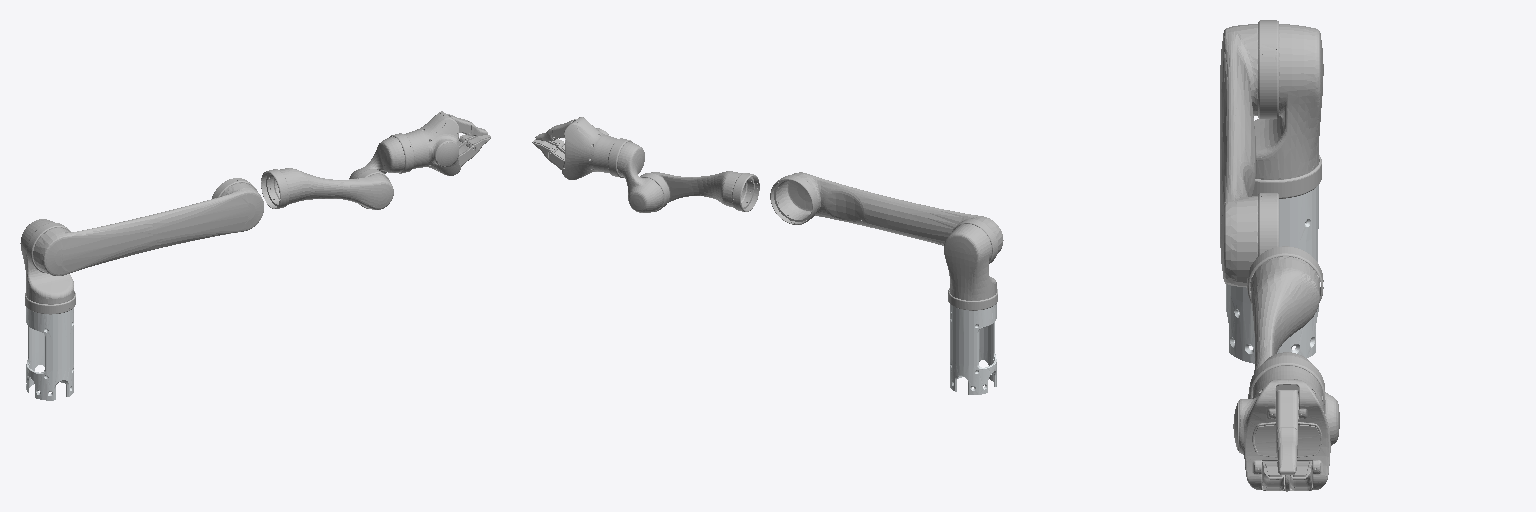
The robot description file, URDF, robot "aria_v1_arm":
<?xml version="1.0" encoding="utf-8"?>
<!-- This URDF was automatically created by SolidWorks to URDF Exporter! Originally created by [author] ([email redacted]) 
     Commit Version: 1.5.1-0-g916b5db  Build Version: 1.5.7152.31018
     For more information, please see http://wiki.ros.org/sw_urdf_exporter -->
<robot
  name="aria_v1_arm">
  <link
    name="base_link">
    <inertial>
      <origin
        xyz="0.006867 -2.3306E-07 0.1029"
        rpy="0 0 0" />
      <mass
        value="0.47699" />
      <inertia
        ixx="0.0020506"
        ixy="-5.4171E-09"
        ixz="4.8967E-05"
        iyy="0.0019633"
        iyz="-3.9639E-09"
        izz="0.00092302" />
    </inertial>
    <visual>
      <origin
        xyz="0 0 0"
        rpy="0 0 0" />
      <geometry>
        <mesh
          filename="package://aria_description/meshes/aria_v1/base_link.STL" />
      </geometry>
      <material
        name="">
        <color
          rgba="0.89804 0.91765 0.92941 1" />
      </material>
    </visual>
    <collision>
      <origin
        xyz="0 0 0"
        rpy="0 0 0" />
      <geometry>
        <mesh
          filename="package://aria_description/meshes/aria_v1/base_link.STL" />
      </geometry>
    </collision>
  </link>
  <link
    name="C2">
    <inertial>
      <origin
        xyz="2.2289E-05 0.0028789 0.062568"
        rpy="0 0 0" />
      <mass
        value="1.0147" />
      <inertia
        ixx="0.00073312"
        ixy="4.4325E-06"
        ixz="9.5766E-08"
        iyy="0.00097269"
        iyz="-5.7984E-05"
        izz="0.0008251" />
    </inertial>
    <visual>
      <origin
        xyz="0 0 0"
        rpy="0 0 0" />
      <geometry>
        <mesh
          filename="package://aria_description/meshes/aria_v1/C2.STL" />
      </geometry>
      <material
        name="">
        <color
          rgba="0.75294 0.75294 0.75294 1" />
      </material>
    </visual>
    <collision>
      <origin
        xyz="0 0 0"
        rpy="0 0 0" />
      <geometry>
        <mesh
          filename="package://aria_description/meshes/aria_v1/C2.STL" />
      </geometry>
    </collision>
  </link>
  <joint
    name="Joint1"
    type="continuous">
    <origin
      xyz="0 0 0.19525"
      rpy="0 0 0" />
    <parent
      link="base_link" />
    <child
      link="C2" />
    <axis
      xyz="0 0 1" />
    <limit
      lower="0"
      upper="0"
      effort="0"
      velocity="0.65" />
  </joint>
  <link
    name="C3">
    <inertial>
      <origin
        xyz="0.18466 -0.010126 -5.2395E-05"
        rpy="0 0 0" />
      <mass
        value="1.5407" />
      <inertia
        ixx="0.00083279"
        ixy="5.108E-06"
        ixz="-7.3577E-06"
        iyy="0.006788"
        iyz="2.1922E-07"
        izz="0.0060612" />
    </inertial>
    <visual>
      <origin
        xyz="0 0 0"
        rpy="0 0 0" />
      <geometry>
        <mesh
          filename="package://aria_description/meshes/aria_v1/C3.STL" />
      </geometry>
      <material
        name="">
        <color
          rgba="0.75294 0.75294 0.75294 1" />
      </material>
    </visual>
    <collision>
      <origin
        xyz="0 0 0"
        rpy="0 0 0" />
      <geometry>
        <mesh
          filename="package://aria_description/meshes/aria_v1/C3.STL" />
      </geometry>
    </collision>
  </link>
  <joint
    name="Joint2"
    type="revolute">
    <origin
      xyz="0 -0.00388 0.11075"
      rpy="0 0 0" />
    <parent
      link="C2" />
    <child
      link="C3" />
    <axis
      xyz="0 -1 0" />
    <limit
      lower="-0.835"
      upper="3.95"
      effort="0"
      velocity="0.9" />
  </joint>
  <link
    name="C4">
    <inertial>
      <origin
        xyz="0.034236 0.012228 7.5617E-05"
        rpy="0 0 0" />
      <mass
        value="0.75713" />
      <inertia
        ixx="0.00044157"
        ixy="2.5585E-05"
        ixz="1.9108E-07"
        iyy="0.00069308"
        iyz="-5.9144E-08"
        izz="0.00046476" />
    </inertial>
    <visual>
      <origin
        xyz="0 0 0"
        rpy="0 0 0" />
      <geometry>
        <mesh
          filename="package://aria_description/meshes/aria_v1/C4.STL" />
      </geometry>
      <material
        name="">
        <color
          rgba="0.75294 0.75294 0.75294 1" />
      </material>
    </visual>
    <collision>
      <origin
        xyz="0 0 0"
        rpy="0 0 0" />
      <geometry>
        <mesh
          filename="package://aria_description/meshes/aria_v1/C4.STL" />
      </geometry>
    </collision>
  </link>
  <joint
    name="Joint3"
    type="revolute">
    <origin
      xyz="0.41 0 0"
      rpy="0 0 0" />
    <parent
      link="C3" />
    <child
      link="C4" />
    <axis
      xyz="0 -1 0" />
    <limit
      lower="-3.2"
      upper="3.05"
      effort="0"
      velocity="0.65" />
  </joint>
  <link
    name="C5">
    <inertial>
      <origin
        xyz="0.10106 -0.005985 -0.020987"
        rpy="0 0 0" />
      <mass
        value="0.7629" />
      <inertia
        ixx="0.00041645"
        ixy="0.00013109"
        ixz="0.00025831"
        iyy="0.0013087"
        iyz="-3.328E-05"
        izz="0.0011753" />
    </inertial>
    <visual>
      <origin
        xyz="0 0 0"
        rpy="0 0 0" />
      <geometry>
        <mesh
          filename="package://aria_description/meshes/aria_v1/C5.STL" />
      </geometry>
      <material
        name="">
        <color
          rgba="0.75294 0.75294 0.75294 1" />
      </material>
    </visual>
    <collision>
      <origin
        xyz="0 0 0"
        rpy="0 0 0" />
      <geometry>
        <mesh
          filename="package://aria_description/meshes/aria_v1/C5.STL" />
      </geometry>
    </collision>
  </link>
  <joint
    name="Joint4"
    type="continuous">
    <origin
      xyz="0.10025 0.01688 0"
      rpy="0 0 0" />
    <parent
      link="C4" />
    <child
      link="C5" />
    <axis
      xyz="1 0 0" />
    <limit
      lower="0"
      upper="0"
      effort="0"
      velocity="1.1" />
  </joint>
  <link
    name="C6">
    <inertial>
      <origin
        xyz="0.026025 0.0061549 0.027469"
        rpy="0 0 0" />
      <mass
        value="0.65716" />
      <inertia
        ixx="0.00035354"
        ixy="2.0268E-05"
        ixz="-3.9013E-05"
        iyy="0.00037446"
        iyz="3.5456E-05"
        izz="0.00024204" />
    </inertial>
    <visual>
      <origin
        xyz="0 0 0"
        rpy="0 0 0" />
      <geometry>
        <mesh
          filename="package://aria_description/meshes/aria_v1/C6.STL" />
      </geometry>
      <material
        name="">
        <color
          rgba="0.75294 0.75294 0.75294 1" />
      </material>
    </visual>
    <collision>
      <origin
        xyz="0 0 0"
        rpy="0 0 0" />
      <geometry>
        <mesh
          filename="package://aria_description/meshes/aria_v1/C6.STL" />
      </geometry>
    </collision>
  </link>
  <joint
    name="Joint5"
    type="revolute">
    <origin
      xyz="0.21628 0.00071 -0.05025"
      rpy="0 0 0" />
    <parent
      link="C5" />
    <child
      link="C6" />
    <axis
      xyz="0 -1 0" />
    <limit
      lower="-3.3"
      upper="1.35"
      effort="0"
      velocity="1.1" />
  </joint>
  <link
    name="Gripper">
    <inertial>
      <origin
        xyz="0.044477 -0.0019357 -0.00061691"
        rpy="0 0 0" />
      <mass
        value="0.79039" />
      <inertia
        ixx="0.00043881"
        ixy="-2.067E-06"
        ixz="-1.4097E-06"
        iyy="0.00029456"
        iyz="3.0944E-07"
        izz="0.00027978" />
    </inertial>
    <visual>
      <origin
        xyz="0 0 0"
        rpy="0 0 0" />
      <geometry>
        <mesh
          filename="package://aria_description/meshes/aria_v1/Gripper.STL" />
      </geometry>
      <material
        name="">
        <color
          rgba="0.75294 0.75294 0.75294 1" />
      </material>
    </visual>
    <collision>
      <origin
        xyz="0 0 0"
        rpy="0 0 0" />
      <geometry>
        <mesh
          filename="package://aria_description/meshes/aria_v1/Gripper.STL" />
      </geometry>
    </collision>
  </link>
  <joint
    name="Joint6"
    type="continuous">
    <origin
      xyz="0.065533 0.0012125 0.0603"
      rpy="0 0 0" />
    <parent
      link="C6" />
    <child
      link="Gripper" />
    <axis
      xyz="1 0 0" />
    <limit
      lower="0"
      upper="0"
      effort="0"
      velocity="1.1" />
  </joint>
  <link
    name="Finger1+2">
    <inertial>
      <origin
        xyz="0.039295 -0.013949 0.010239"
        rpy="0 0 0" />
      <mass
        value="0.055822" />
      <inertia
        ixx="5.8667E-06"
        ixy="2.5984E-11"
        ixz="-2.6997E-06"
        iyy="1.1887E-05"
        iyz="4.1196E-11"
        izz="1.1059E-05" />
    </inertial>
    <visual>
      <origin
        xyz="0 0 0"
        rpy="0 0 0" />
      <geometry>
        <mesh
          filename="package://aria_description/meshes/aria_v1/Finger1+2.STL" />
      </geometry>
      <material
        name="">
        <color
          rgba="0.75294 0.75294 0.75294 1" />
      </material>
    </visual>
    <collision>
      <origin
        xyz="0 0 0"
        rpy="0 0 0" />
      <geometry>
        <mesh
          filename="package://aria_description/meshes/aria_v1/Finger1+2.STL" />
      </geometry>
    </collision>
  </link>
  <joint
    name="FJoint1"
    type="revolute">
    <origin
      xyz="0.10705 0.0139 -0.031"
      rpy="0 0 0" />
    <parent
      link="Gripper" />
    <child
      link="Finger1+2" />
    <axis
      xyz="0 1 0" />
    <limit
      lower="0"
      upper="1.05"
      effort="0"
      velocity="1" />
  </joint>
  <link
    name="Finger3">
    <inertial>
      <origin
        xyz="0.039161 -5.0112E-09 -0.010511"
        rpy="0 0 0" />
      <mass
        value="0.027789" />
      <inertia
        ixx="2.9896E-06"
        ixy="-1.0187E-12"
        ixz="1.4306E-06"
        iyy="5.9874E-06"
        iyz="5.456E-12"
        izz="5.4662E-06" />
    </inertial>
    <visual>
      <origin
        xyz="0 0 0"
        rpy="0 0 0" />
      <geometry>
        <mesh
          filename="package://aria_description/meshes/aria_v1/Finger3.STL" />
      </geometry>
      <material
        name="">
        <color
          rgba="0.75294 0.75294 0.75294 1" />
      </material>
    </visual>
    <collision>
      <origin
        xyz="0 0 0"
        rpy="0 0 0" />
      <geometry>
        <mesh
          filename="package://aria_description/meshes/aria_v1/Finger3.STL" />
      </geometry>
    </collision>
  </link>
  <joint
    name="FJoint2"
    type="revolute">
    <origin
      xyz="0.10705 0 0.031"
      rpy="0 0 0" />
    <parent
      link="Gripper" />
    <child
      link="Finger3" />
    <axis
      xyz="0 -1 0" />
    <limit
      lower="0"
      upper="1.05"
      effort="0"
      velocity="1" />
    <mimic joint="FJoint1" multiplier="1" offset="0"/>
  </joint>
  <link name="eef_link" />
  <joint name="eef_joint" type="fixed">
    <parent link="Gripper" />
    <child link="eef_link" />
    <origin xyz="0.1555 0 0" rpy="3.1415 -1.5708 0" />
  </joint>
</robot>

--- Facts derived from the render (not from the file) ---
The picture shows the robot from 3 angles, left to right: view 1: azimuth 30°, elevation 25°; view 2: azimuth 150°, elevation 25°; view 3: azimuth 270°, elevation 25°; orthographic projection.
Robot: aria_v1_arm — 10 links, 9 joints (5 revolute, 3 continuous, 1 fixed); root link base_link; default pose: every joint at zero.
Visible links, largest first — view 1: C3, base_link, C5, Gripper, C2, C6, Finger1+2; view 2: C3, C2, base_link, C5, C6, Gripper, Finger1+2; view 3: C3, C2, Gripper, C5, base_link, Finger3, C6, Finger1+2.
Boxes of the visible links, x1,y1,x2,y2 form: C3: [27, 178, 263, 275]; base_link: [26, 307, 73, 400]; C5: [261, 168, 393, 209]; Gripper: [404, 111, 460, 175]; C2: [20, 219, 75, 314]; C6: [349, 133, 414, 208]; Finger1+2: [458, 134, 490, 166]; C3: [770, 172, 1003, 263]; C2: [944, 224, 997, 310]; base_link: [950, 304, 996, 394]; C5: [651, 171, 759, 211]; C6: [608, 138, 669, 212]; Gripper: [562, 117, 617, 179]; Finger1+2: [532, 139, 564, 170]; C3: [1220, 20, 1278, 287]; C2: [1252, 24, 1323, 198]; Gripper: [1233, 366, 1330, 491]; C5: [1247, 246, 1323, 398]; base_link: [1226, 185, 1318, 363]; Finger3: [1276, 390, 1297, 474]; C6: [1249, 352, 1339, 445]; Finger1+2: [1262, 461, 1311, 490].
Size in the robot's own frame: 1.03 by 0.1203 by 0.3764 metres.
Meshes: 9 distinct files referenced, 8 mesh visuals loaded (8 binary STL); not drawn: 1 (reference not matched to a file when rendering).